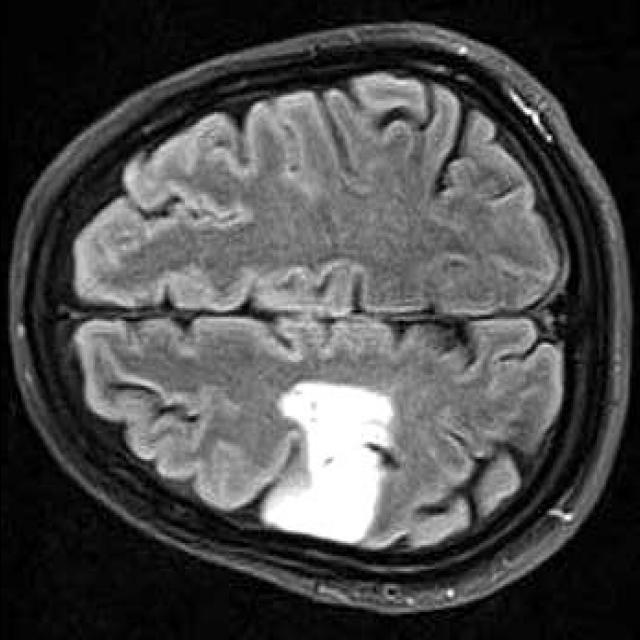tumor: (257, 379, 397, 543)
